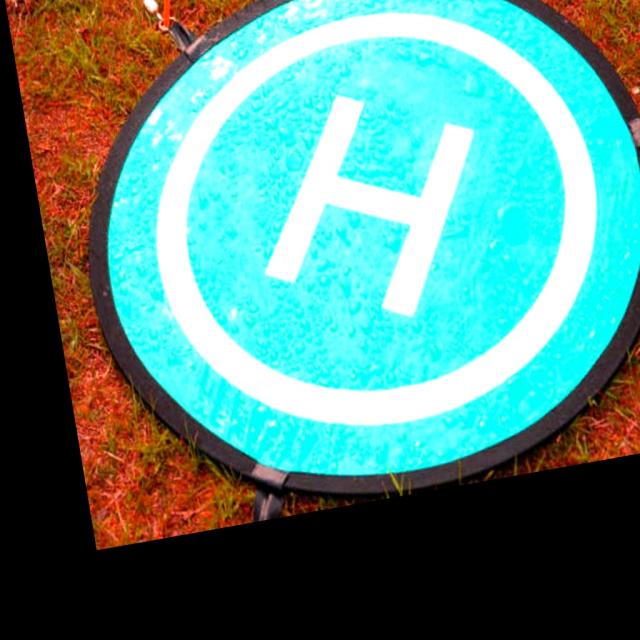helipad: (150, 6, 605, 432)
